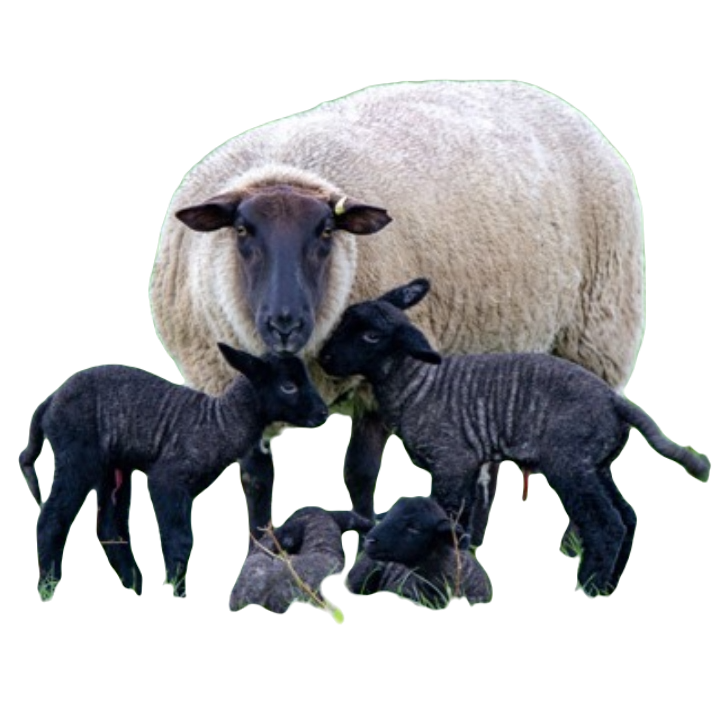Sheep: (145, 70, 653, 554), (324, 279, 708, 599), (16, 345, 328, 608)
